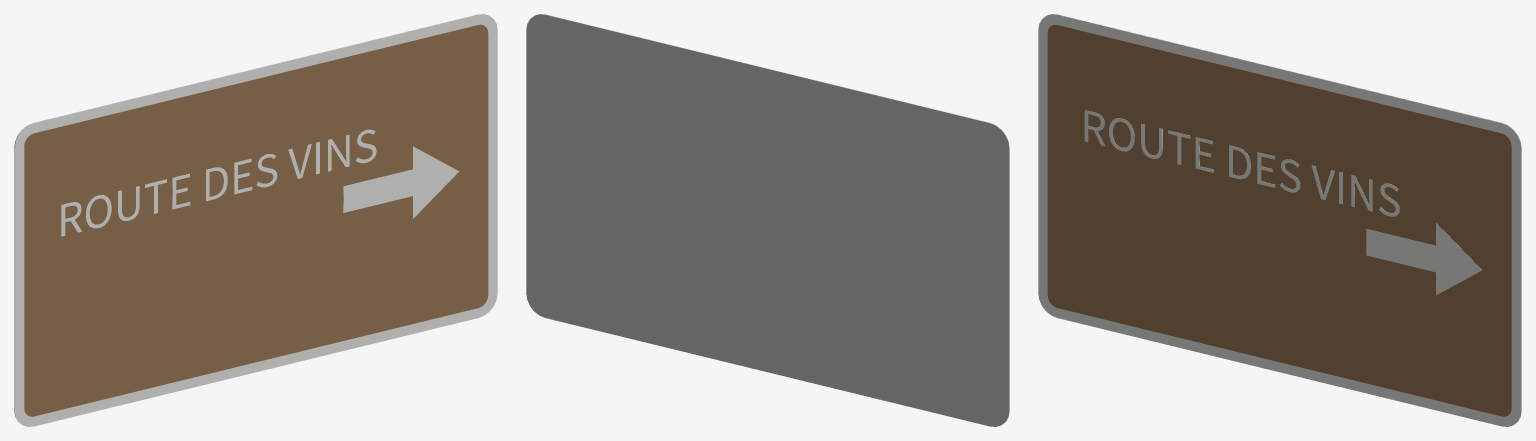
3 renders of one model, left to right at view 1: azimuth 30°, elevation 25°; view 2: azimuth 150°, elevation 25°; view 3: azimuth 330°, elevation 25°, orthographic.
Parts seen in each view (by area): view 1: H21_r01, H21_r00, H21_p03, H21_txt02, H21_dos; view 2: H21_dos; view 3: H21_r01, H21_r00, H21_p03, H21_txt02, H21_dos.
Part boxes in pixels (bbox=[...]): H21_r01: bbox=[24, 24, 488, 416]; H21_r00: bbox=[14, 14, 497, 426]; H21_p03: bbox=[343, 146, 458, 218]; H21_txt02: bbox=[61, 129, 376, 236]; H21_dos: bbox=[14, 14, 487, 420]; H21_dos: bbox=[526, 14, 1009, 426]; H21_r01: bbox=[1047, 24, 1511, 416]; H21_r00: bbox=[1038, 14, 1521, 426]; H21_p03: bbox=[1366, 223, 1481, 295]; H21_txt02: bbox=[1084, 110, 1399, 216]; H21_dos: bbox=[1048, 14, 1521, 420].
Size of the model in its own units: 1 by 0.6 by 0.0029.
